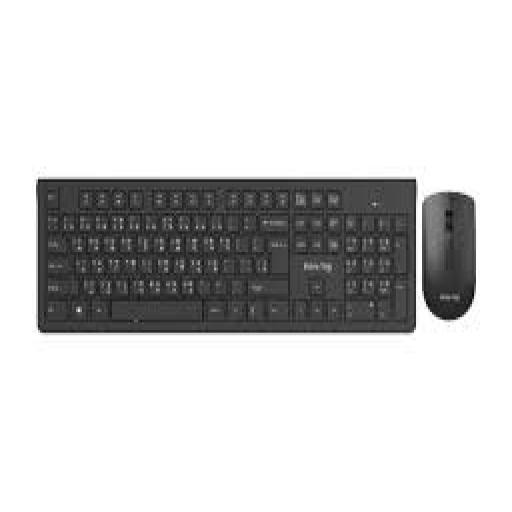keyboard: (38, 179, 414, 330)
